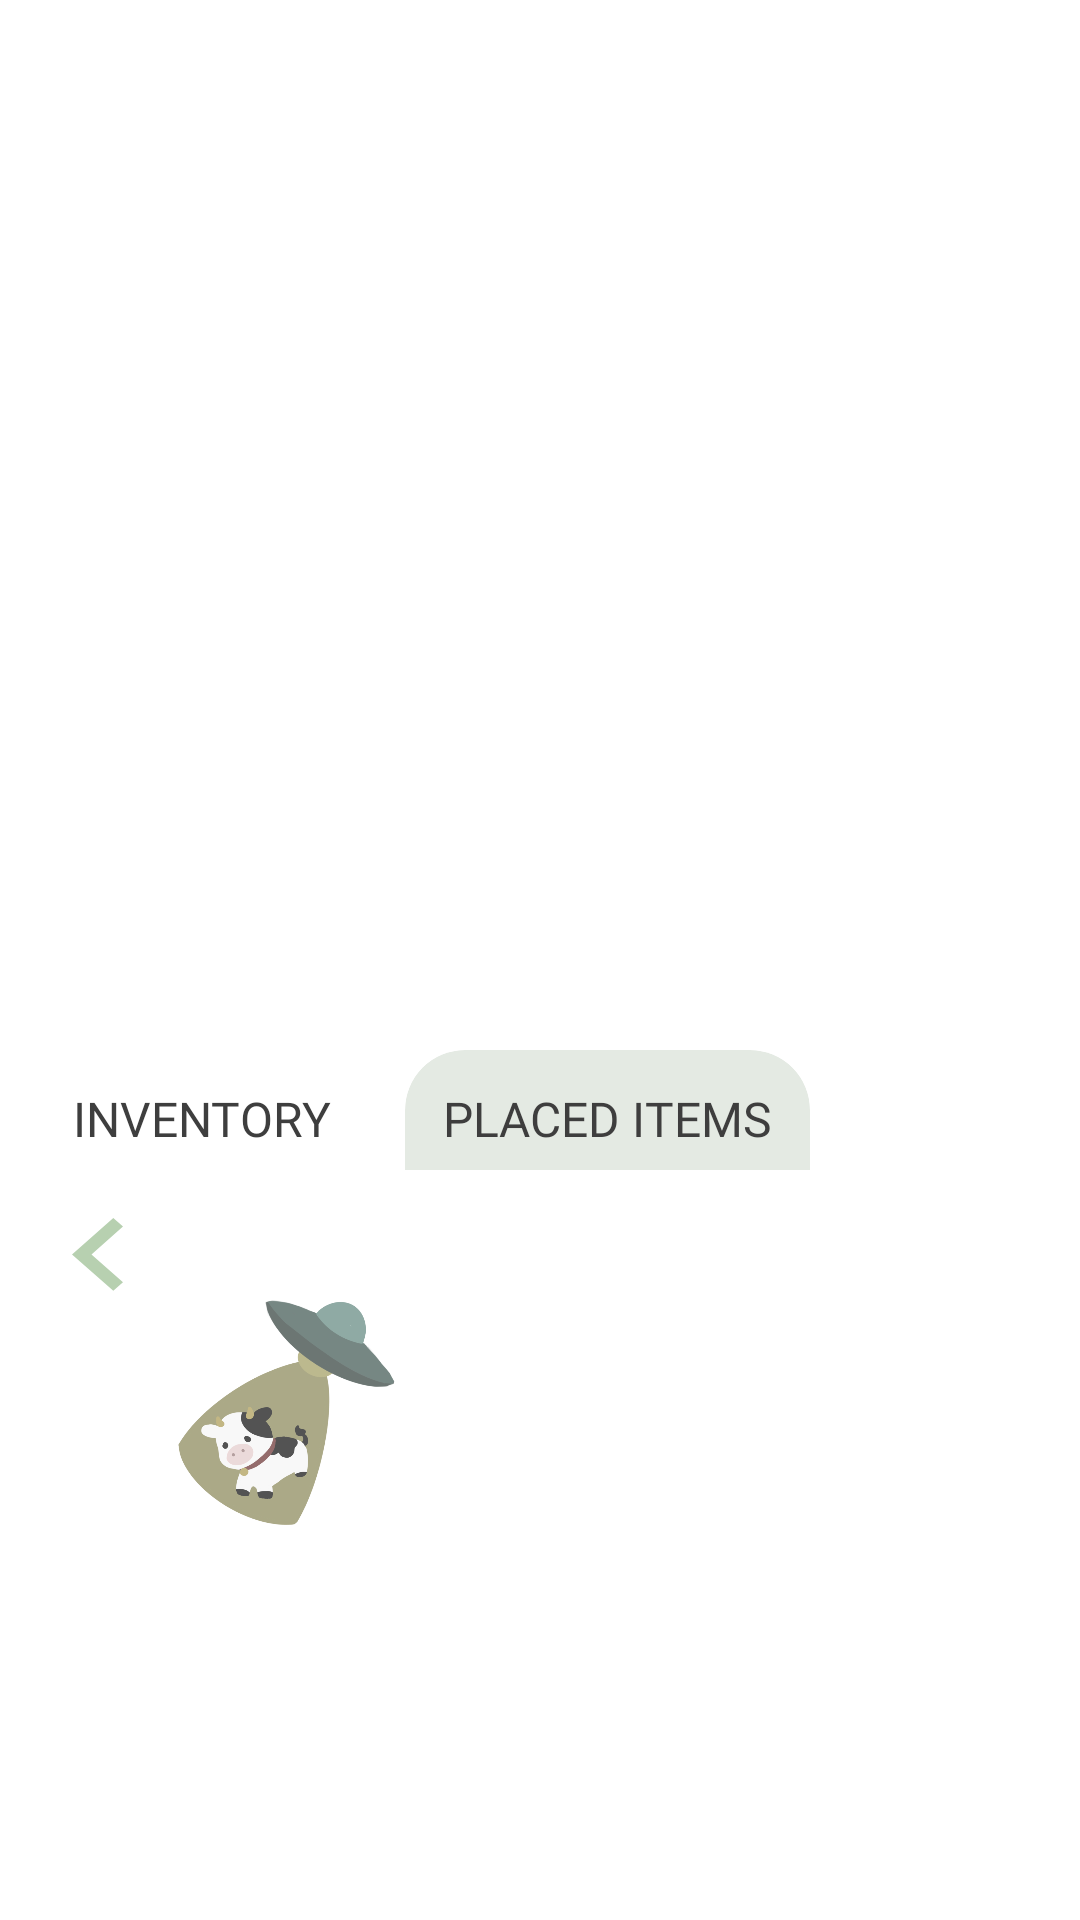

Where icons sit on this 1080×1920 app screen, as (x1, y1, x2, y2):
back: (72, 1218, 123, 1291)
cow ufo: (178, 1300, 394, 1525)
